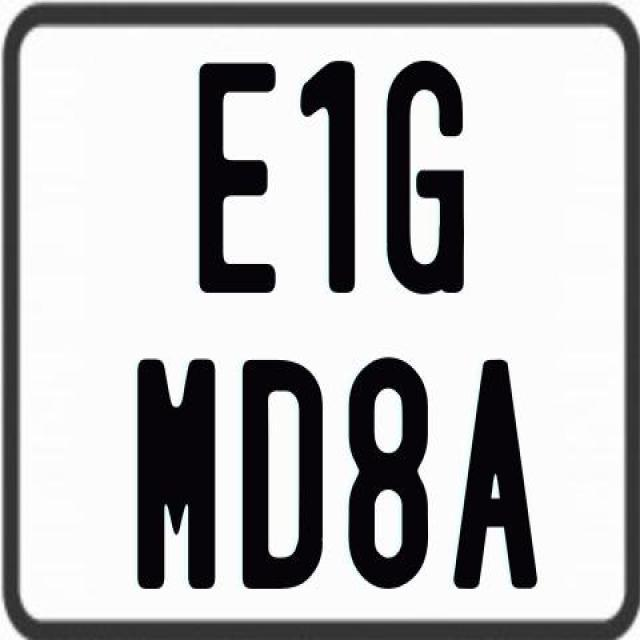1: (300, 59, 360, 298)
8: (344, 355, 432, 592)
A: (452, 358, 542, 592)
D: (242, 358, 326, 589)
E: (197, 58, 275, 290)
G: (384, 61, 467, 304)
M: (138, 355, 222, 586)
